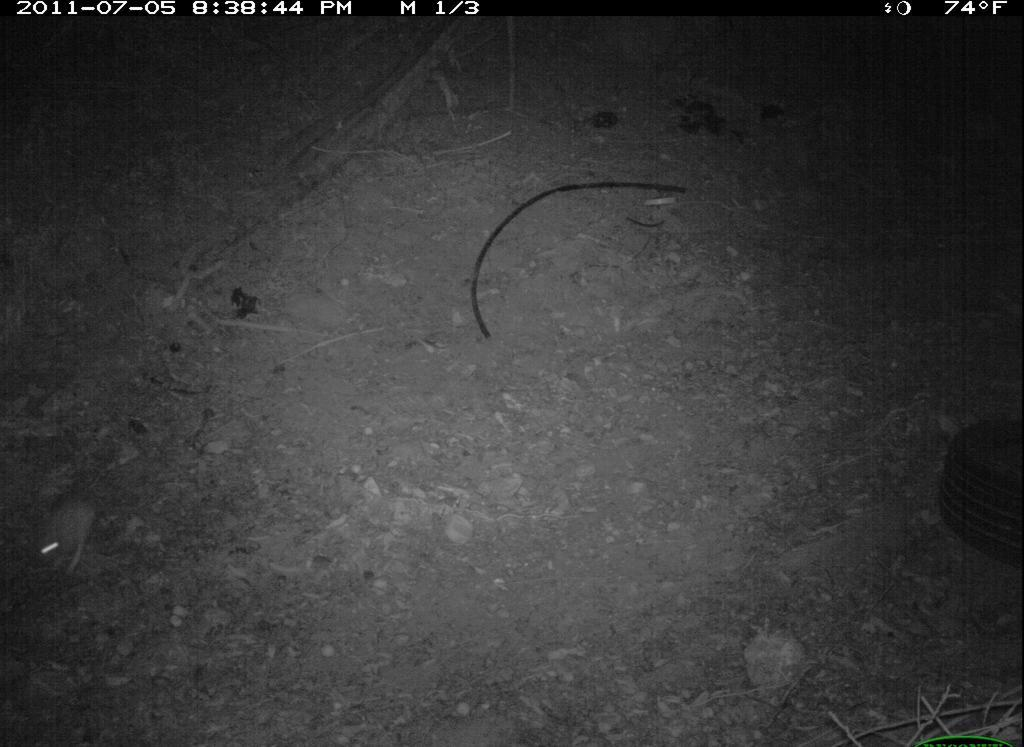rabbit: (24, 461, 118, 589)
